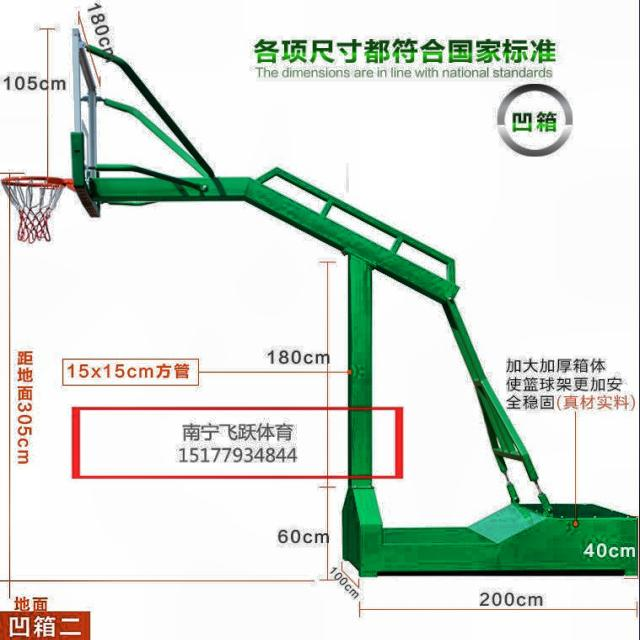rim: (0, 175, 63, 243)
